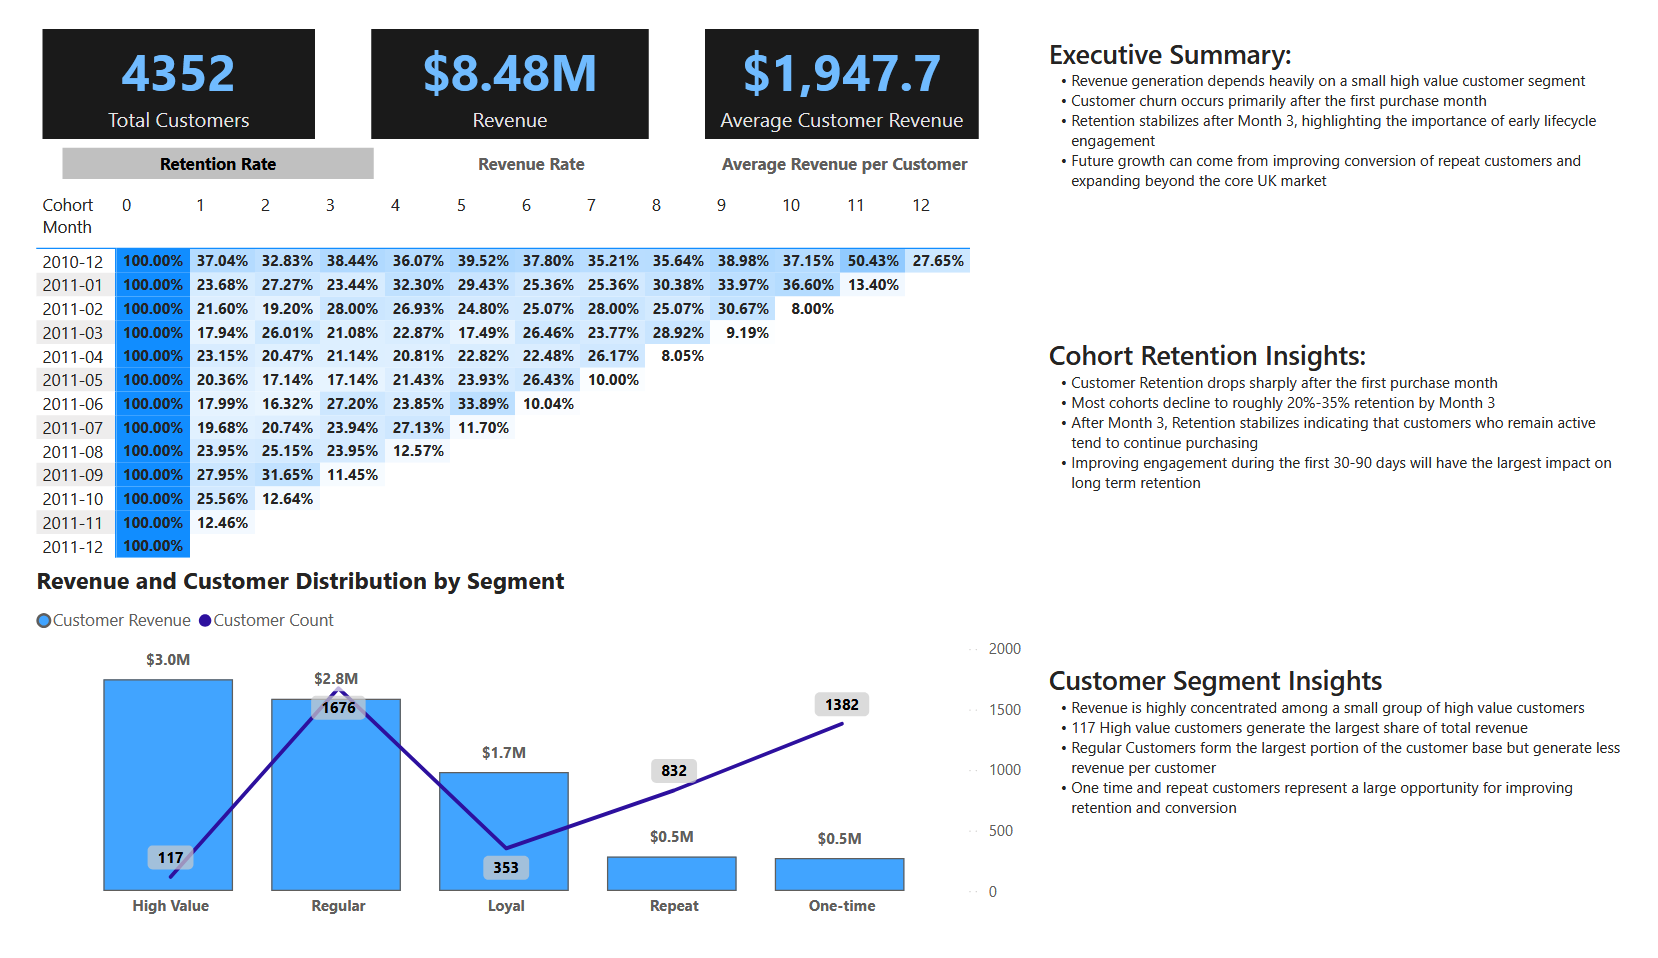

Layout of this report page (visuals, bound fields, positions):
{"tool":"powerbi","page":{"name":"Exec Dashboard","canvas":[1280,720],"ordinal":0},"visuals":[{"type":"pivotTable","fields":{"Columns":["Customer Month Activity.Month Since First"],"Rows":["Customer Month Activity.Cohort Month"],"Values":["Measure Table.Retention Rate"]},"box":[0,126,800.3,302.4],"z":0},{"type":"slicer","fields":{"Values":["Metric Selection.Metric Selection"]},"box":[0,87.7,800.3,38.3],"z":1000},{"type":"lineStackedColumnComboChart","title":"Revenue and Customer Distribution by Segment","fields":{"Category":["Customer Summary.Customer Segment"],"Y":["Sum(Customer Summary.Customer Revenue)"],"Y2":["Measure Table.Customer Count (Summary)"]},"box":[0,428.3,800.3,291.3],"z":2000},{"type":"card","fields":{"Values":["Measure Table.Users"]},"box":[10.1,0,217.7,87.7],"z":3000},{"type":"card","fields":{"Values":["Measure Table.Average Revenue per Customer"]},"box":[540.2,0,218.7,87.7],"z":4000},{"type":"card","fields":{"Values":["Measure Table.Revenue"]},"box":[273.1,0,221.7,87.7],"z":5000},{"type":"textbox","box":[809.8,241,470.2,139.9],"z":6000},{"type":"textbox","box":[809.8,500.7,470.2,144.6],"z":7000},{"type":"textbox","box":[809.8,0,470.2,152.8],"z":7001}]}

Visuals, with their boxes in screenshot pixels (x1, y1, x2, y2), scaled from the page's 1280x720 canvas onto the 1658x958 screenshot:
pivotTable - Customer Month Activity.Month Since First x Customer Month Activity.Cohort Month: [0, 168, 1037, 570]
slicer - Metric Selection.Metric Selection: [0, 117, 1037, 168]
"Revenue and Customer Distribution by Segment" lineStackedColumnComboChart: [0, 570, 1037, 957]
card - Measure Table.Users: [13, 0, 295, 117]
card - Measure Table.Average Revenue per Customer: [700, 0, 983, 117]
card - Measure Table.Revenue: [354, 0, 641, 117]
textbox: [1049, 321, 1657, 507]
textbox: [1049, 666, 1657, 859]
textbox: [1049, 0, 1657, 203]
